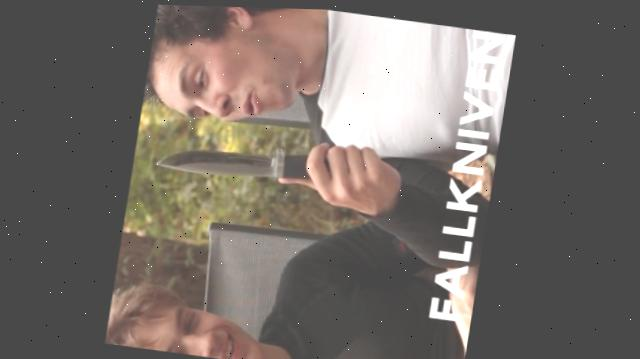pocket-knife: (145, 113, 365, 203)
